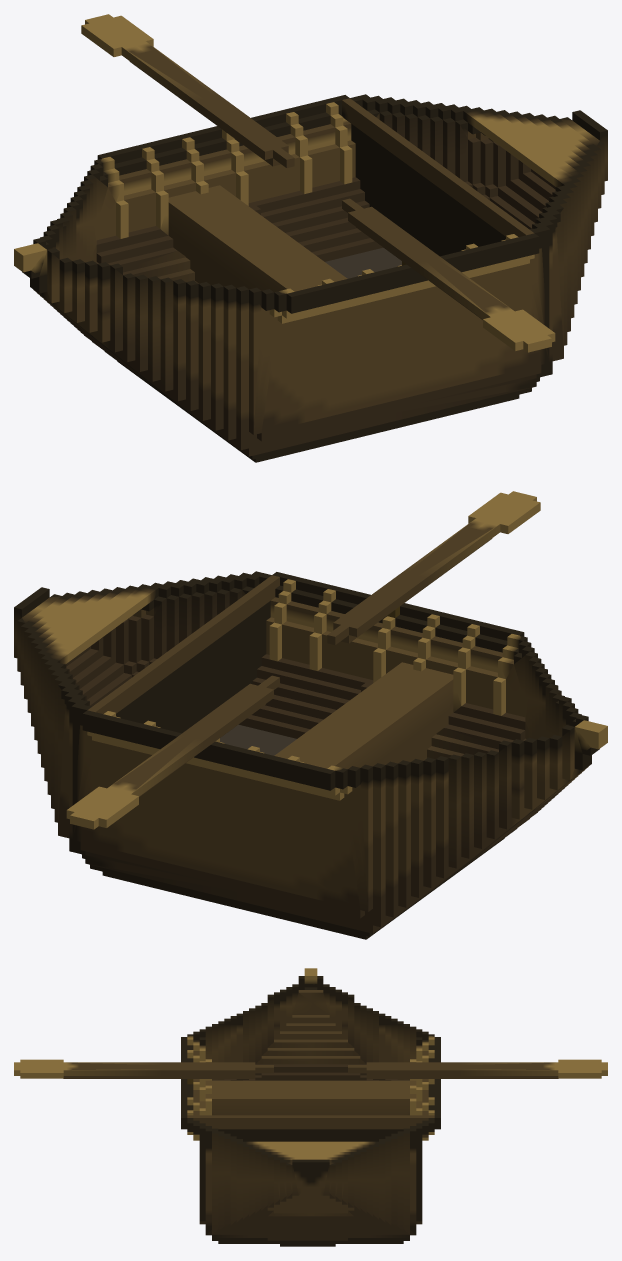
The model's file is boat_prototyp.dae.
3 renders of one model, top to bottom at view 1: azimuth 30°, elevation 25°; view 2: azimuth 150°, elevation 25°; view 3: azimuth 270°, elevation 25°, orthographic. The views are drawn at different scales.
Visible parts, largest first — view 1: boat_prototyp.boat_prototyp; view 2: boat_prototyp.boat_prototyp; view 3: boat_prototyp.boat_prototyp.
Part boxes in pixels (left/top/right/bottom): boat_prototyp.boat_prototyp: left=14, top=14, right=607, bottom=462; boat_prototyp.boat_prototyp: left=14, top=491, right=607, bottom=939; boat_prototyp.boat_prototyp: left=14, top=968, right=607, bottom=1246.
Bounding box in the file's own units: 7.2 × 9.6 × 2.4.
Materials: 1 (1 with a texture image).
